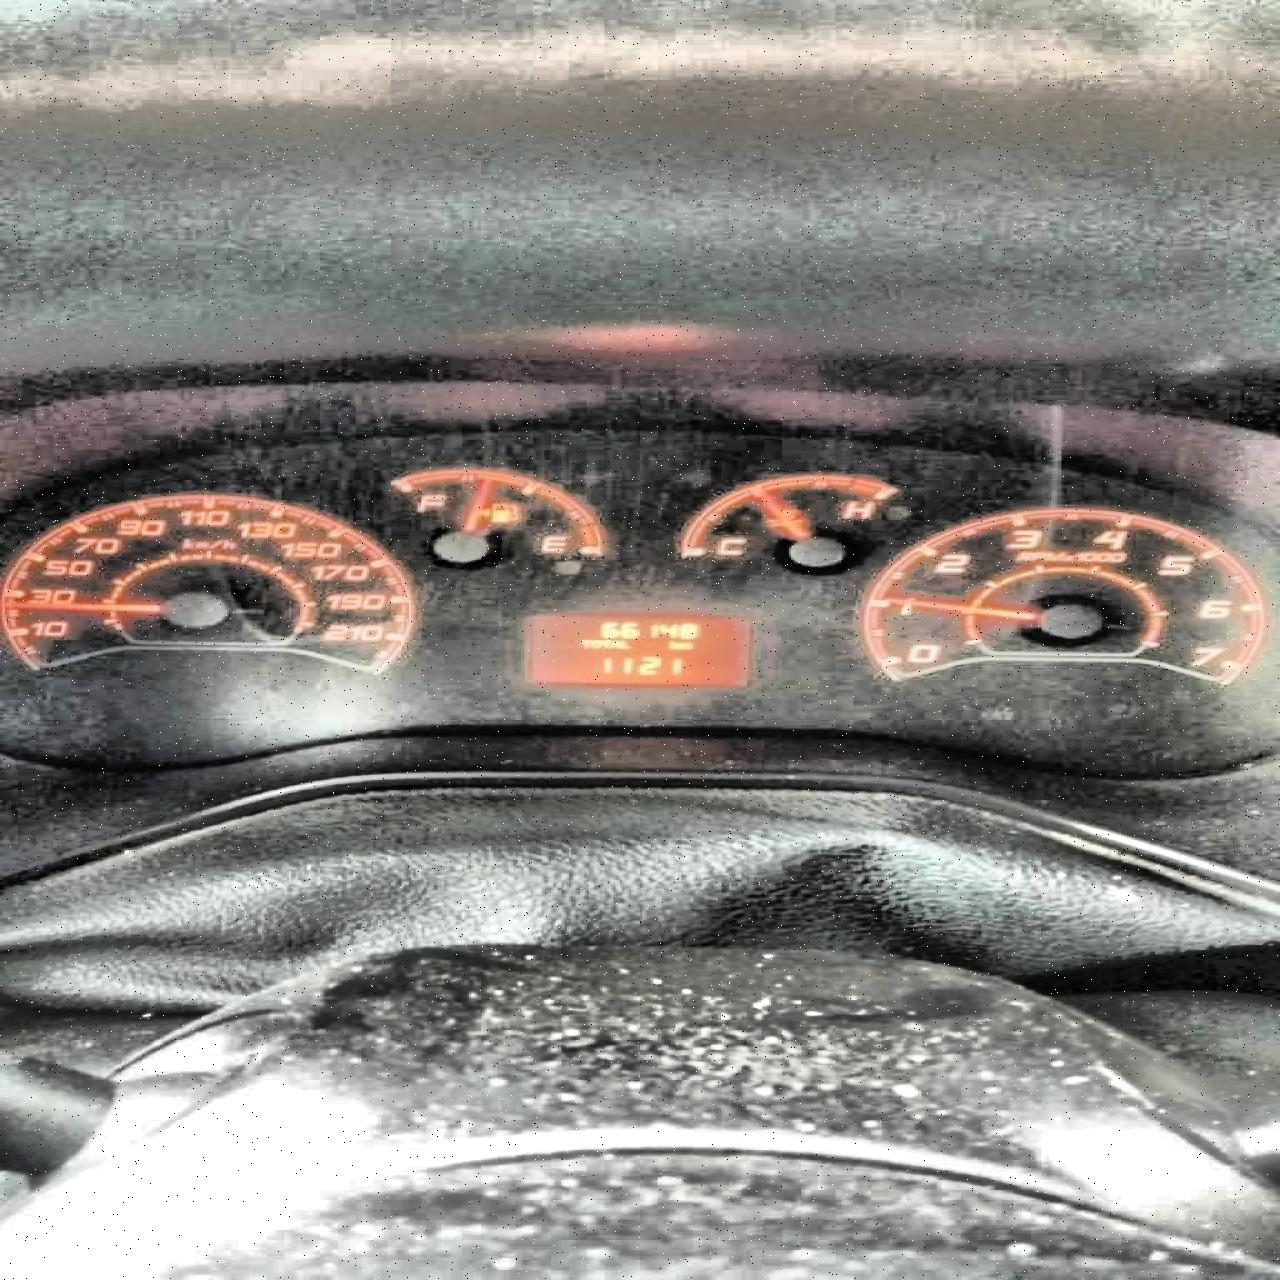1: (665, 656, 682, 675), (618, 655, 633, 674), (598, 655, 613, 674), (645, 622, 658, 639)
2: (635, 655, 660, 675)
4: (658, 622, 675, 639)
6: (618, 620, 638, 638), (598, 620, 618, 638)
8: (678, 621, 697, 639)
X: (678, 641, 693, 651), (588, 639, 600, 649), (610, 639, 620, 649), (578, 638, 588, 648), (620, 639, 629, 649), (667, 640, 678, 649), (600, 639, 610, 649)
odometer: (516, 607, 761, 690)
